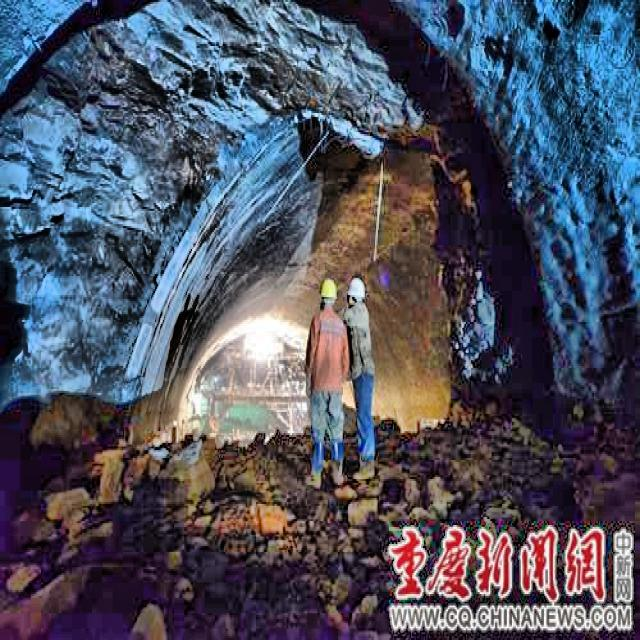helmet: (346, 278, 368, 314), (320, 276, 338, 316)
